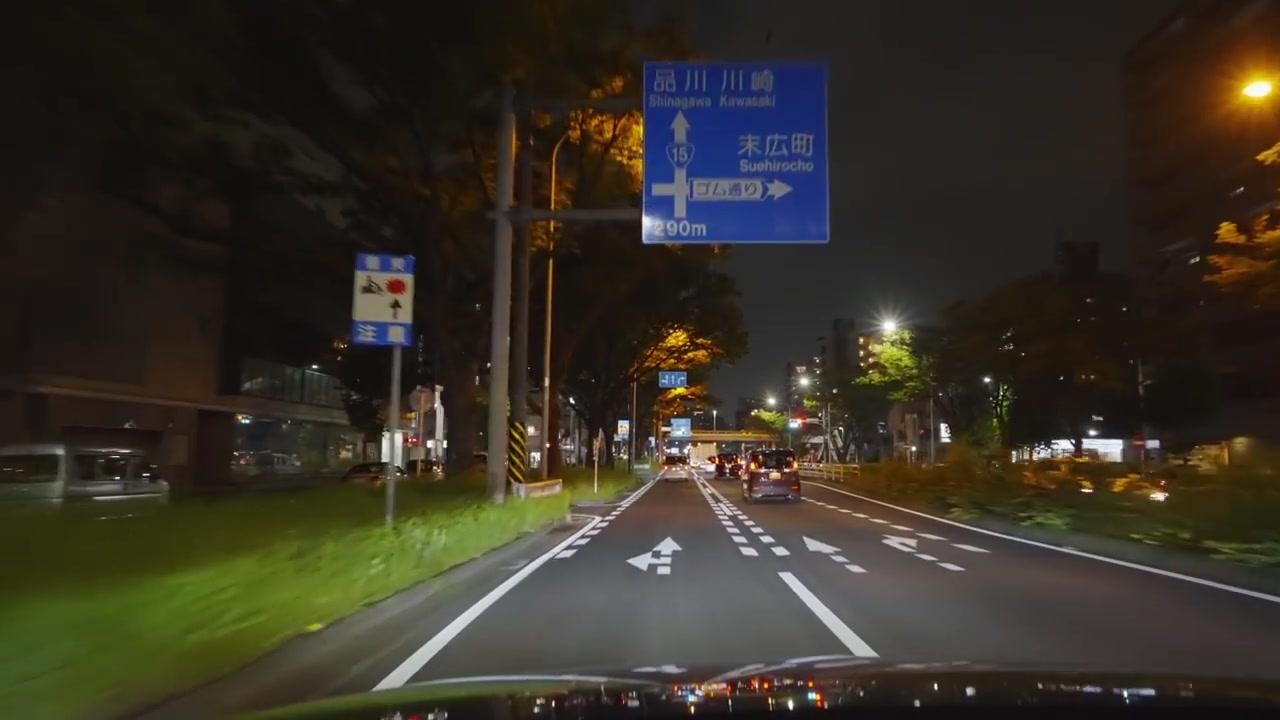car: (0, 441, 171, 516), (743, 451, 801, 503), (230, 449, 302, 480), (341, 460, 406, 485), (713, 451, 743, 477), (661, 446, 690, 472)
